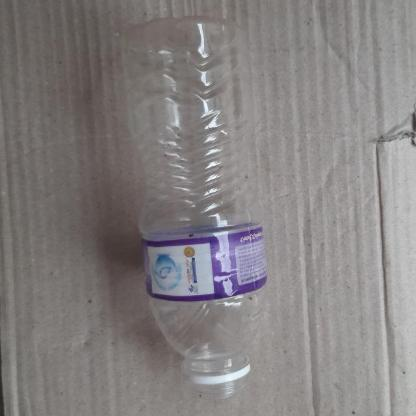Plastic Bottle: (118, 15, 272, 400)
